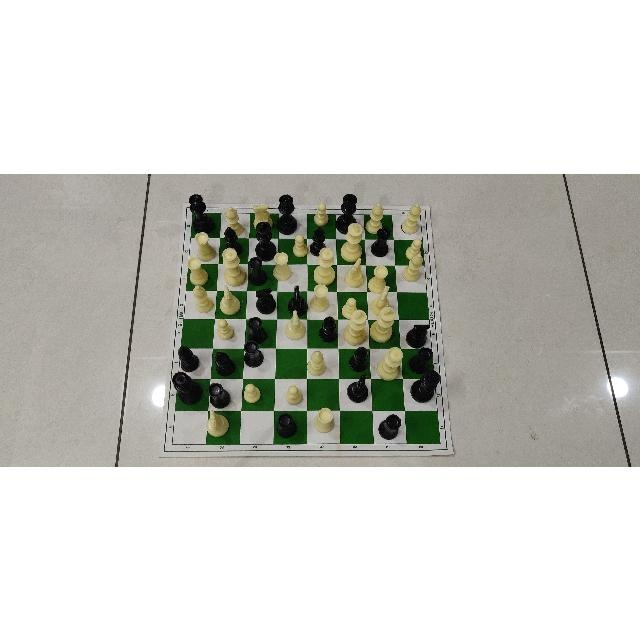black-bishop: (175, 343, 203, 372), (212, 347, 238, 378), (220, 225, 245, 254), (319, 314, 340, 345), (349, 343, 369, 374), (308, 226, 330, 254)
black-king: (410, 368, 443, 406), (336, 192, 363, 234), (252, 220, 278, 261)
black-knight: (343, 374, 373, 402), (285, 283, 310, 314), (405, 321, 433, 346), (253, 284, 277, 313)
black-queen: (183, 193, 217, 232), (274, 193, 304, 233), (168, 371, 203, 405)
black-rook: (238, 340, 267, 368), (376, 412, 403, 440), (205, 381, 233, 408), (410, 346, 434, 377), (246, 315, 270, 343), (246, 255, 268, 284), (274, 412, 299, 436), (370, 228, 391, 256)
white-bishop: (223, 203, 247, 235), (366, 202, 390, 234), (191, 282, 215, 313), (306, 349, 331, 377), (401, 252, 424, 282), (400, 203, 421, 235)
white-king: (342, 305, 368, 346), (341, 222, 367, 261), (370, 306, 398, 342)
white-knight: (216, 284, 245, 315), (370, 284, 396, 315), (206, 410, 232, 440), (285, 309, 307, 340), (250, 203, 276, 229), (344, 256, 366, 286)
white-pawn: (289, 233, 310, 260), (310, 200, 332, 225), (339, 296, 363, 318), (242, 382, 264, 405), (284, 382, 306, 405), (214, 317, 237, 339), (404, 236, 423, 260)
white-queen: (217, 247, 249, 287), (374, 346, 407, 382), (312, 245, 337, 283)
white-rook: (191, 230, 219, 260), (269, 249, 294, 280), (185, 258, 211, 284), (312, 405, 336, 433), (367, 264, 391, 292), (310, 282, 332, 311)
